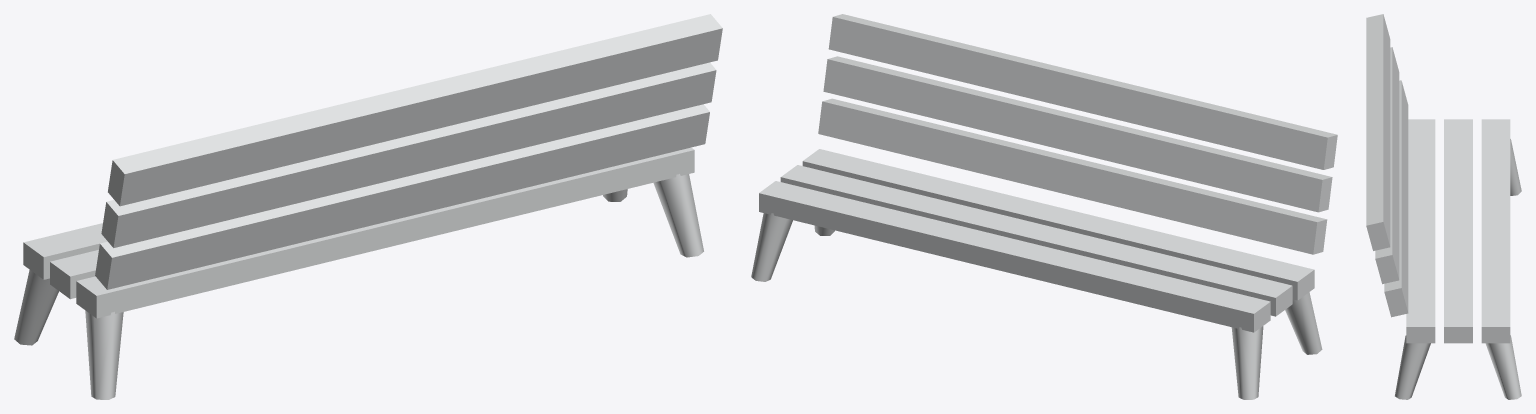
Rendered from bench.obj.
3 renders of one model, left to right at view 1: azimuth 30°, elevation 25°; view 2: azimuth 150°, elevation 25°; view 3: azimuth 270°, elevation 25°, orthographic. The views are drawn at different scales.
Visible parts, largest first — view 1: Cube.001; view 2: Cube.001; view 3: Cube.001.
Part boxes in pixels (bbox=[...]): Cube.001: bbox=[14, 14, 722, 399]; Cube.001: bbox=[751, 14, 1337, 399]; Cube.001: bbox=[1366, 14, 1521, 399].
Size of the model in its own units: 3.05 by 1.2 by 0.9502.
1 material, 1 textured.
